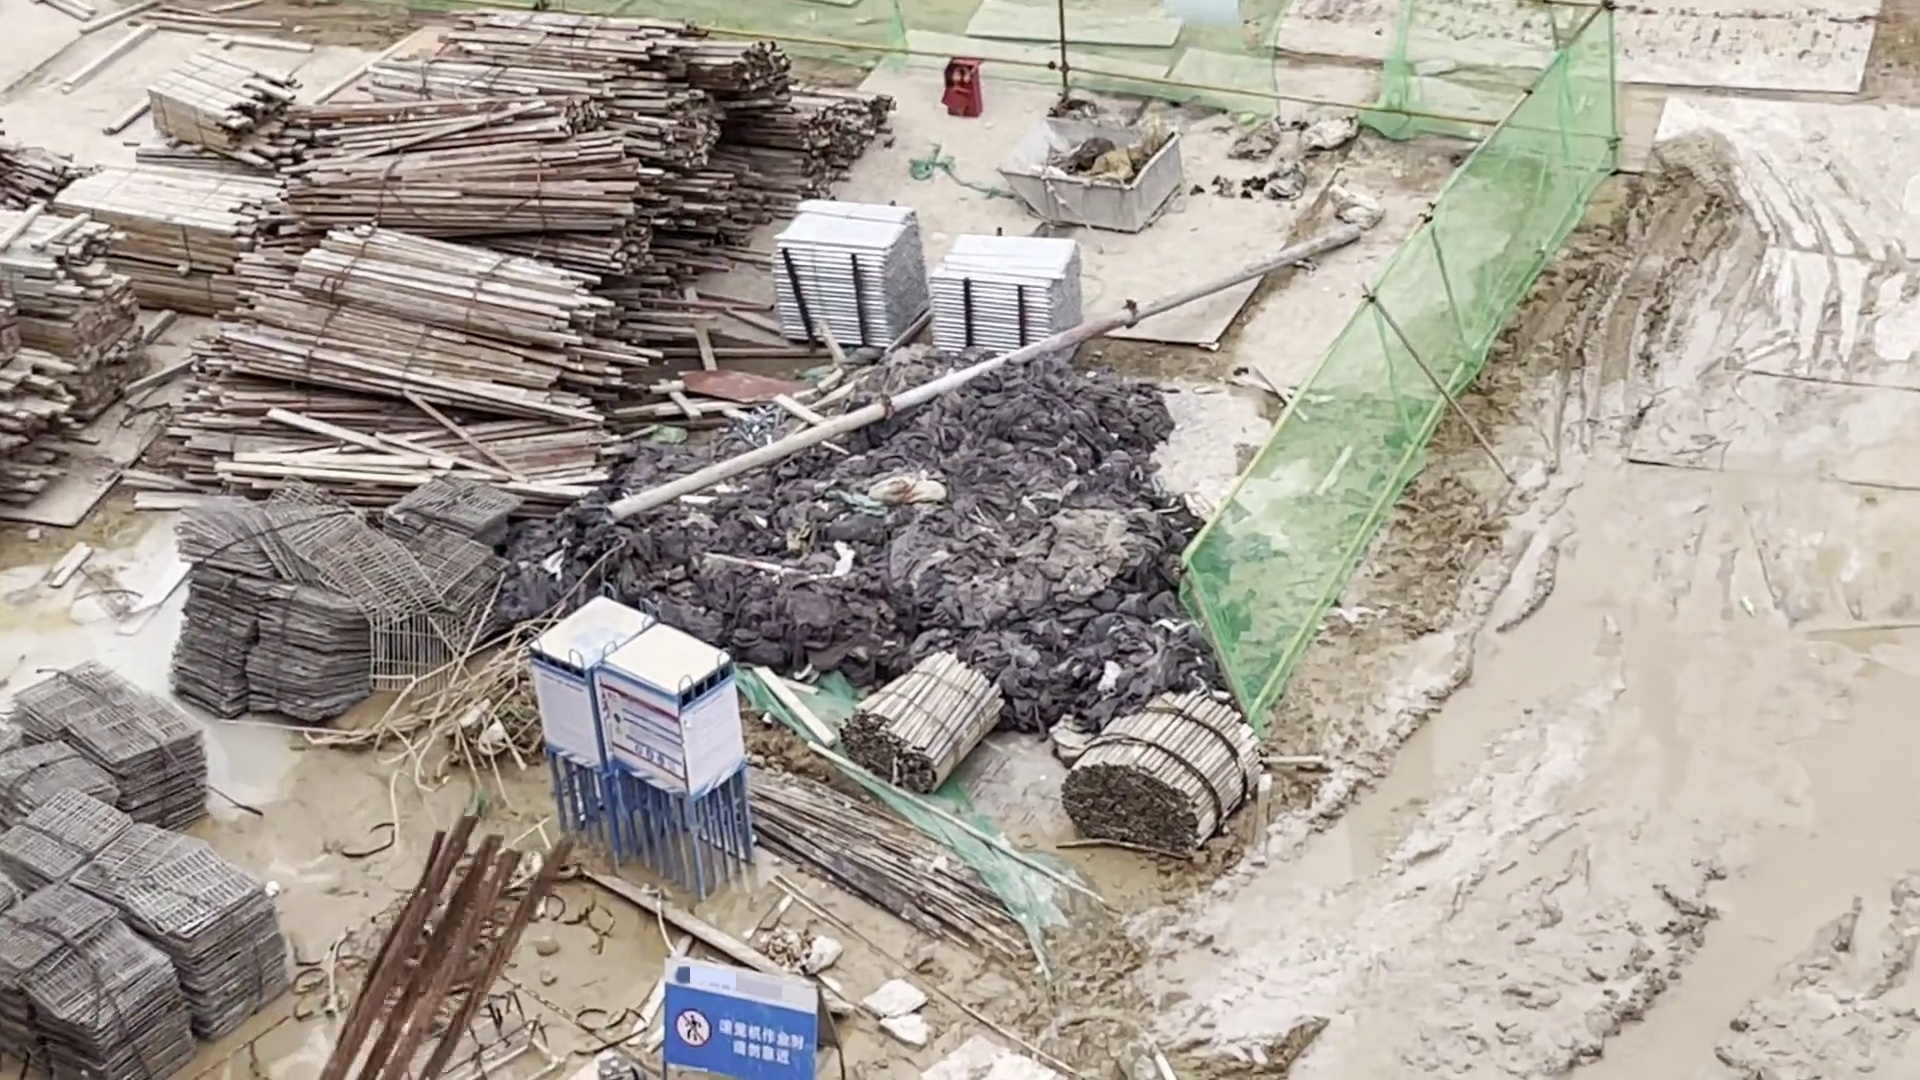hopper: (996, 115, 1196, 235)
scaffold: (771, 200, 932, 352), (926, 232, 1097, 371)
slogan: (669, 986, 829, 1079)
wood: (281, 4, 873, 237), (175, 257, 607, 491), (1063, 694, 1266, 858), (63, 164, 280, 316), (841, 651, 997, 791)
